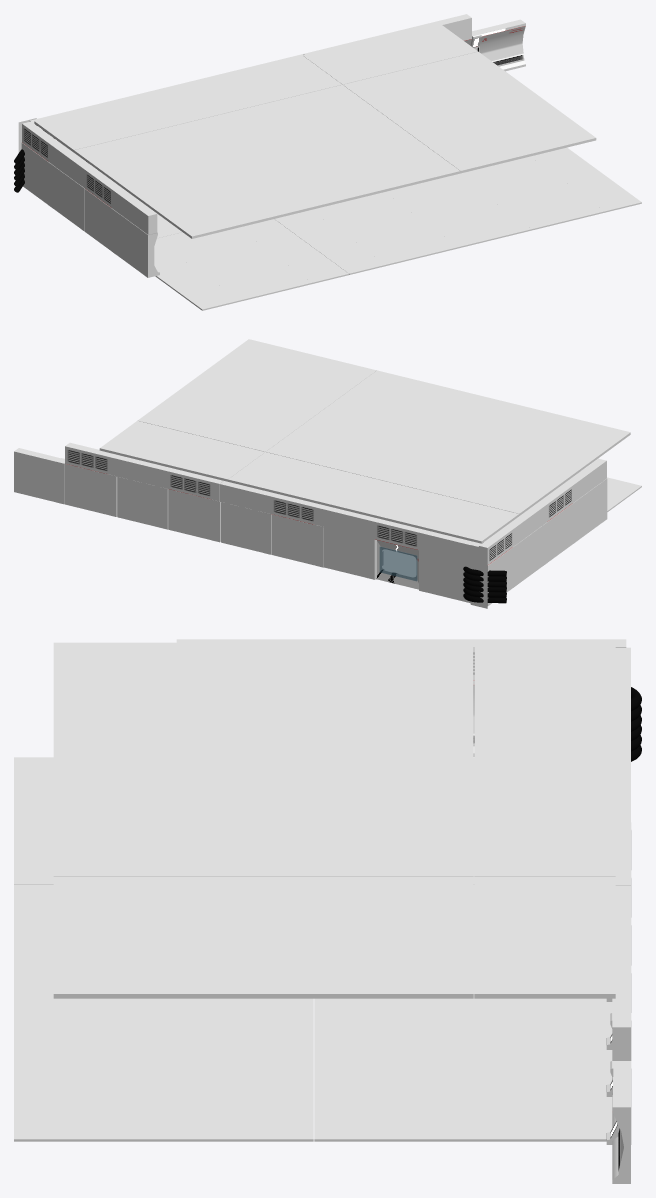
Rendered from argochamber_wall.glb.
The picture shows the model from 3 angles, top to bottom: view 1: azimuth 30°, elevation 25°; view 2: azimuth 150°, elevation 25°; view 3: azimuth 270°, elevation 25°; orthographic projection. The views are drawn at different scales.
Parts seen in each view (by area): view 1: Wall.003, Ground.150, Ground.146, Ground.147, Ground.127, Ground.148, Ground.145, Ground.138, Ground.149, Ground.144, Ground.131, Ground.134 (+66 smaller); view 2: Wall.003, Wall.001, Wall, Wall.002, Ground.127, Ground.131, Ground.129, Ground.128, Ground.132, Ground.150, Ground.138, Ground.144 (+32 smaller); view 3: Ground.145, Ground.133, Ground.132, Ground.139, Ground.127, Ground.150, Ground.138, Ground.131, Ground.146, Ground.144, Ground.134, Ground.149 (+61 smaller).
Part boxes in pixels (x1,y1,x2,y2): Wall.003: (21,140,159,277); Ground.150: (152,191,260,238); Ground.146: (421,125,529,173); Ground.147: (285,158,393,205); Ground.127: (34,104,142,152); Ground.148: (354,142,460,189); Ground.145: (490,109,596,156); Ground.138: (74,133,181,181); Ground.149: (219,175,327,221); Ground.144: (113,162,220,209); Ground.131: (303,39,410,84); Ground.134: (343,68,450,113); Wall.003: (324,478,607,605); Wall.001: (14,448,117,516); Wall: (117,476,220,542); Wall.002: (221,502,323,567); Ground.127: (417,498,519,543); Ground.131: (163,436,264,481); Ground.129: (228,452,329,497); Ground.128: (353,482,453,528); Ground.132: (99,421,199,466); Ground.150: (528,416,630,461); Ground.138: (455,471,556,515); Ground.144: (492,444,593,488); Ground.145: (53,934,194,998); Ground.133: (332,934,473,998); Ground.132: (474,934,615,998); Ground.139: (192,934,333,998); Ground.127: (474,642,615,702); Ground.150: (53,642,194,702); Ground.138: (333,642,473,702); Ground.131: (474,876,615,935); Ground.146: (53,876,194,935); Ground.144: (195,642,333,702); Ground.134: (333,876,473,935); Ground.149: (53,701,194,760).
Size of the model in its own units: 57.17 by 7.17 by 33.96.
Materials: 55 (46 with a texture image).
